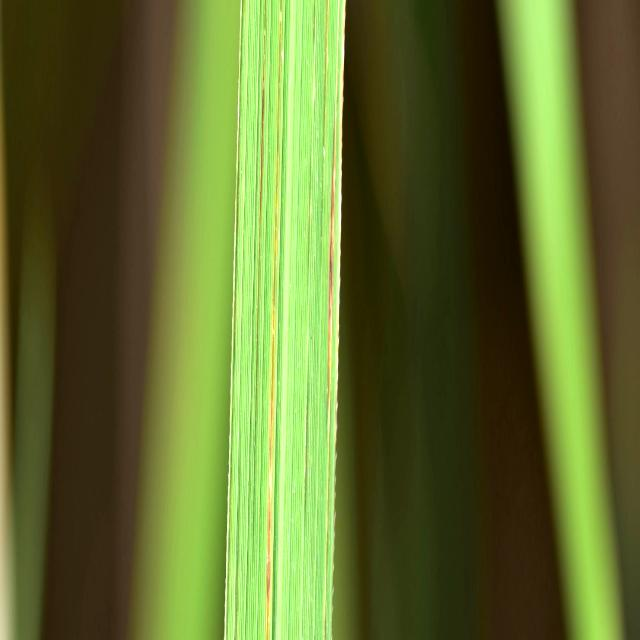BLS: (266, 0, 283, 638), (324, 0, 339, 638), (255, 0, 267, 423), (324, 0, 329, 70)
